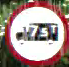Heavy Vehicles: (4, 0, 68, 63)
